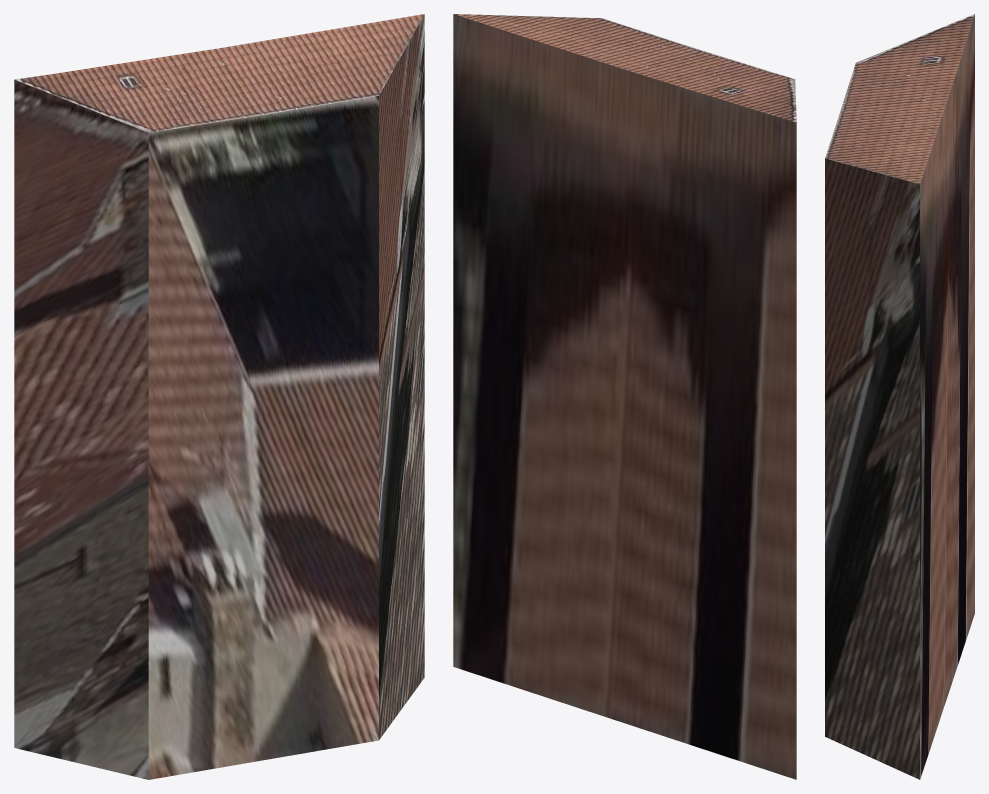
3 renders of one model, left to right at view 1: azimuth 30°, elevation 25°; view 2: azimuth 150°, elevation 25°; view 3: azimuth 270°, elevation 25°, orthographic. The views are drawn at different scales.
Visible parts, largest first — view 1: Z_UP; view 2: Z_UP; view 3: Z_UP.
Boxes of the visible parts, box(x1,y1,x2,y2) form: Z_UP: box(14, 14, 424, 779); Z_UP: box(453, 14, 796, 779); Z_UP: box(825, 14, 974, 779).
Bounding box in the file's own units: 13.2 × 22.2 × 5.03.
Materials: 2 (1 with a texture image).
